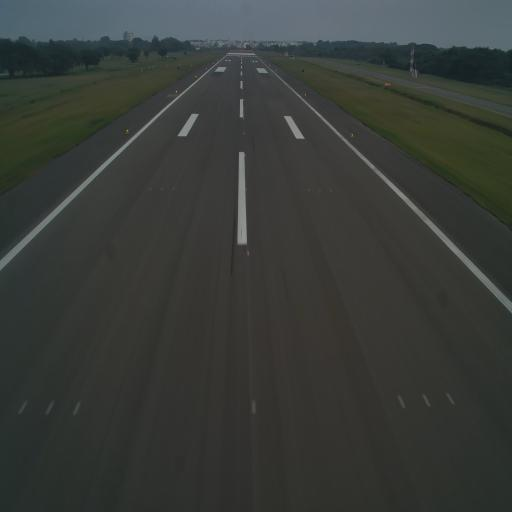off: (444, 384, 457, 416), (392, 389, 407, 414), (44, 396, 57, 421), (72, 395, 84, 418), (17, 396, 30, 416), (422, 390, 433, 412), (148, 185, 154, 194), (159, 184, 165, 193), (171, 184, 177, 193), (318, 186, 323, 195), (306, 186, 311, 194), (328, 185, 333, 193), (244, 184, 248, 193), (190, 130, 194, 138), (197, 128, 201, 136), (282, 132, 285, 138), (289, 132, 292, 138)
on: (249, 400, 259, 418), (246, 248, 251, 259), (242, 149, 247, 160), (125, 127, 130, 134), (242, 129, 246, 137), (350, 132, 354, 138)
